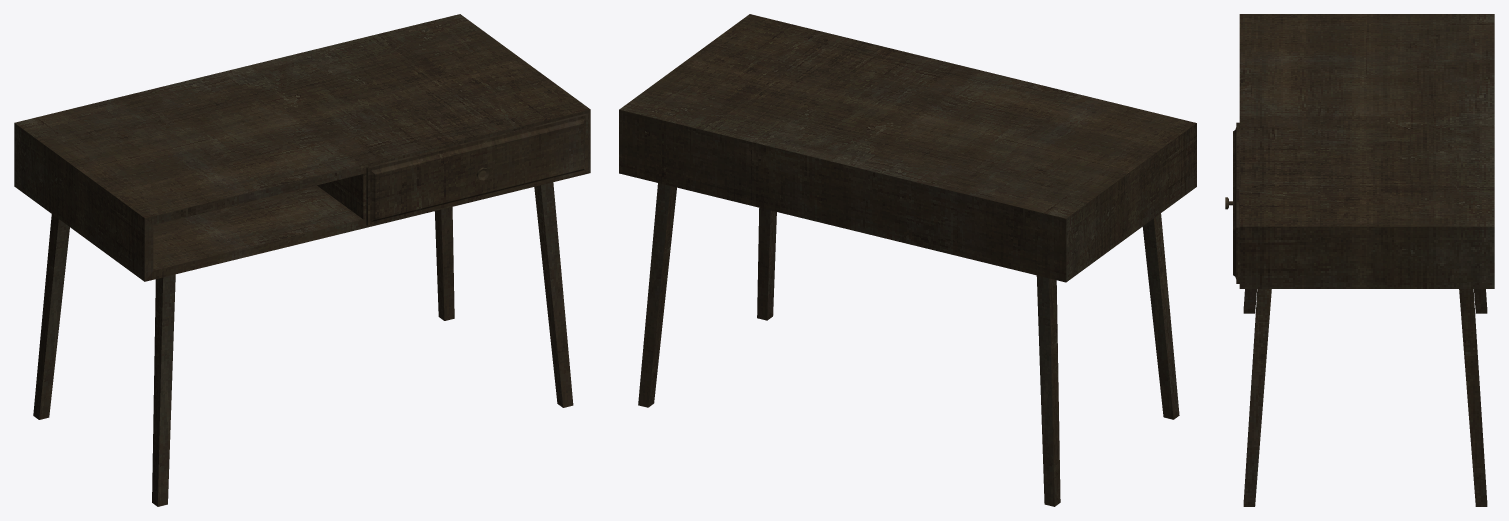
Rendered from tv_table_4_4.glb.
3 renders of one model, left to right at view 1: azimuth 30°, elevation 25°; view 2: azimuth 150°, elevation 25°; view 3: azimuth 270°, elevation 25°, orthographic. The views are drawn at different scales.
Visible parts, largest first — view 1: tv_table_4_4, tv_table_4_4_drawer; view 2: tv_table_4_4; view 3: tv_table_4_4, tv_table_4_4_drawer.
Boxes of the visible parts, left/top/right/bottom form: tv_table_4_4: left=14, top=14, right=590, bottom=506; tv_table_4_4_drawer: left=366, top=113, right=587, bottom=225; tv_table_4_4: left=619, top=14, right=1196, bottom=506; tv_table_4_4: left=1239, top=14, right=1494, bottom=506; tv_table_4_4_drawer: left=1225, top=122, right=1239, bottom=283.
Size of the model in its own units: 1.54 by 0.97 by 0.8235.
1 material, 1 textured.
